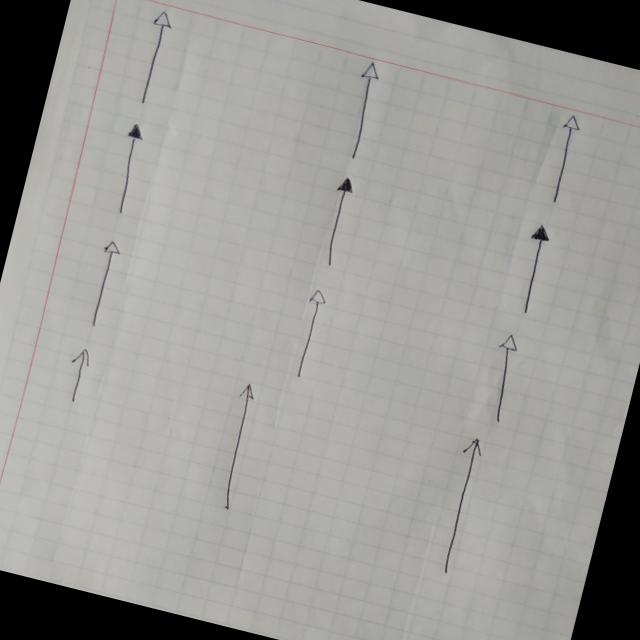arrow_line_up: (428, 433, 488, 578), (208, 379, 263, 514), (336, 60, 386, 164), (105, 119, 152, 219), (478, 330, 526, 425), (540, 111, 586, 207), (130, 7, 173, 108), (287, 286, 332, 382), (508, 222, 553, 316), (314, 174, 356, 269), (82, 238, 123, 330), (57, 344, 94, 405)
